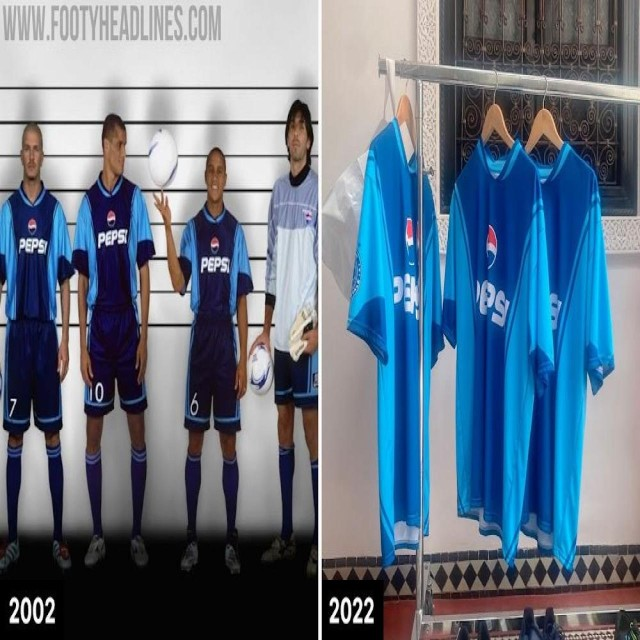pepsi: (209, 228, 221, 256), (26, 215, 39, 238), (107, 208, 118, 233)
